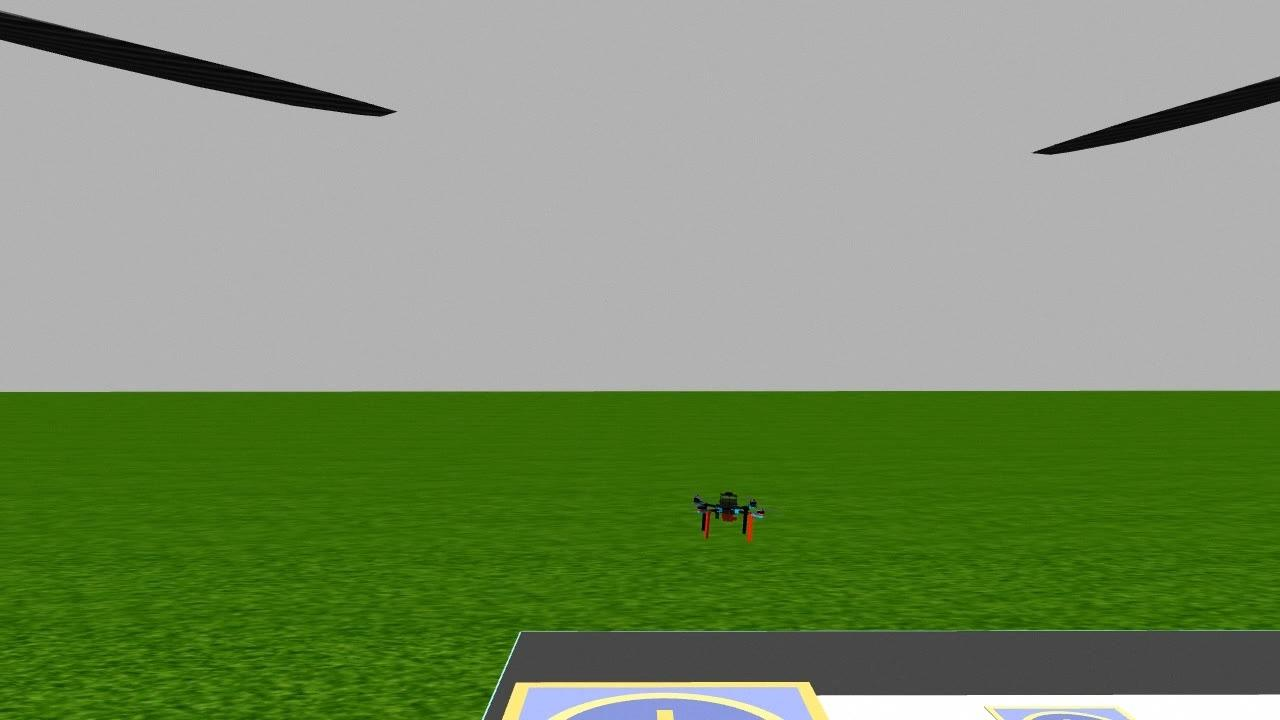UAV: (681, 478, 777, 559)
